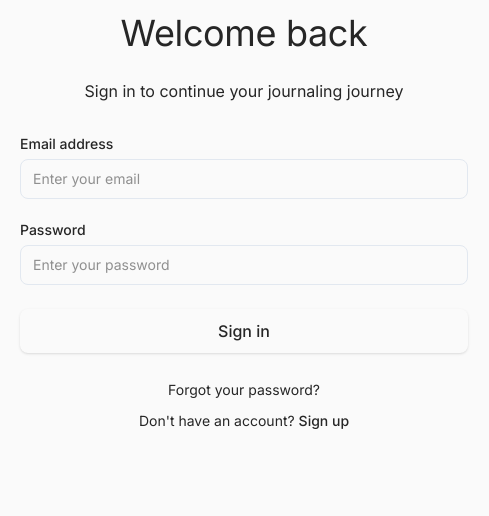
Test: AuthForm › Login Mode › handles login error
The width and height of the screenshot is (489, 516).
Type "test@example.com" into the field labelled "Email address" at x=244, y=179, box [20,159,468,199]
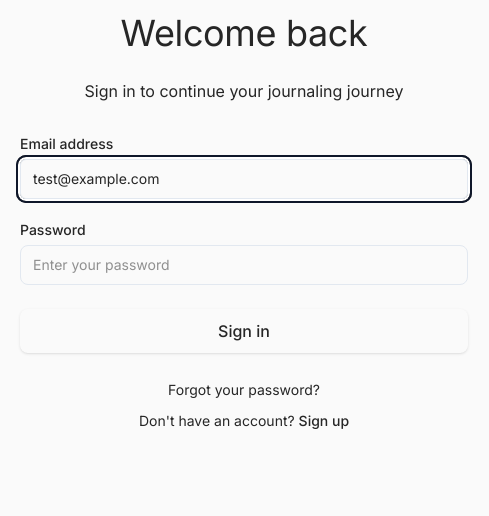
Type "wrongpassword" into the password field labelled "Password" at x=244, y=265, box [20,245,468,285]
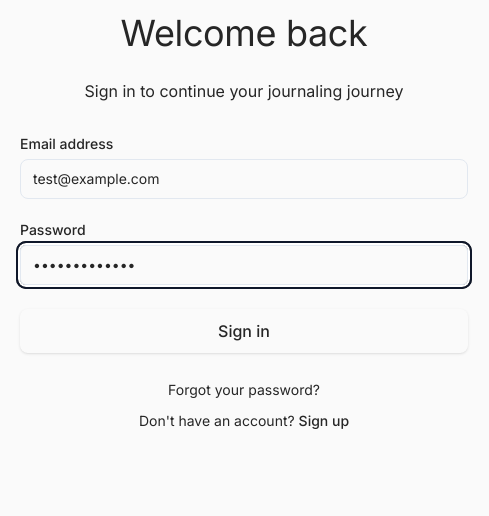
Click the button "Sign in" at x=244, y=331, box [20,309,468,353]
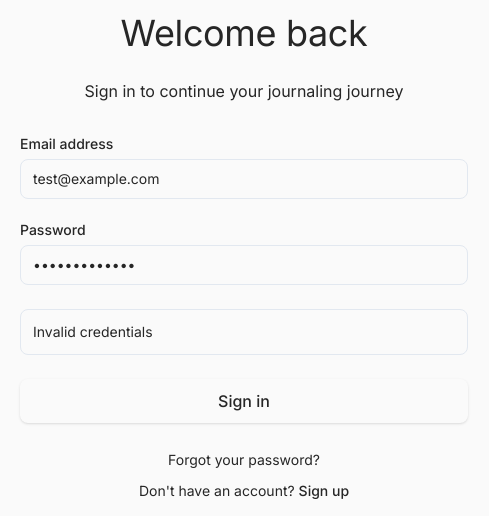
Check: the text "Invalid credentials" is shown, box [20,309,468,355]
